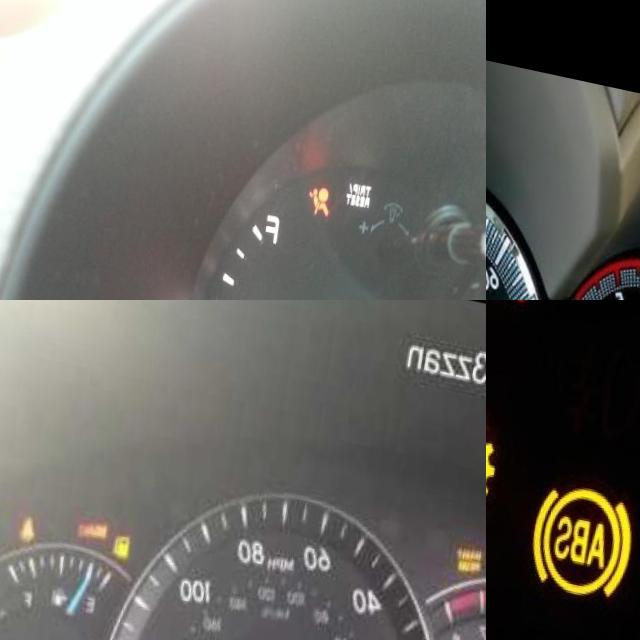Seat Belt: (30, 509, 49, 538)
